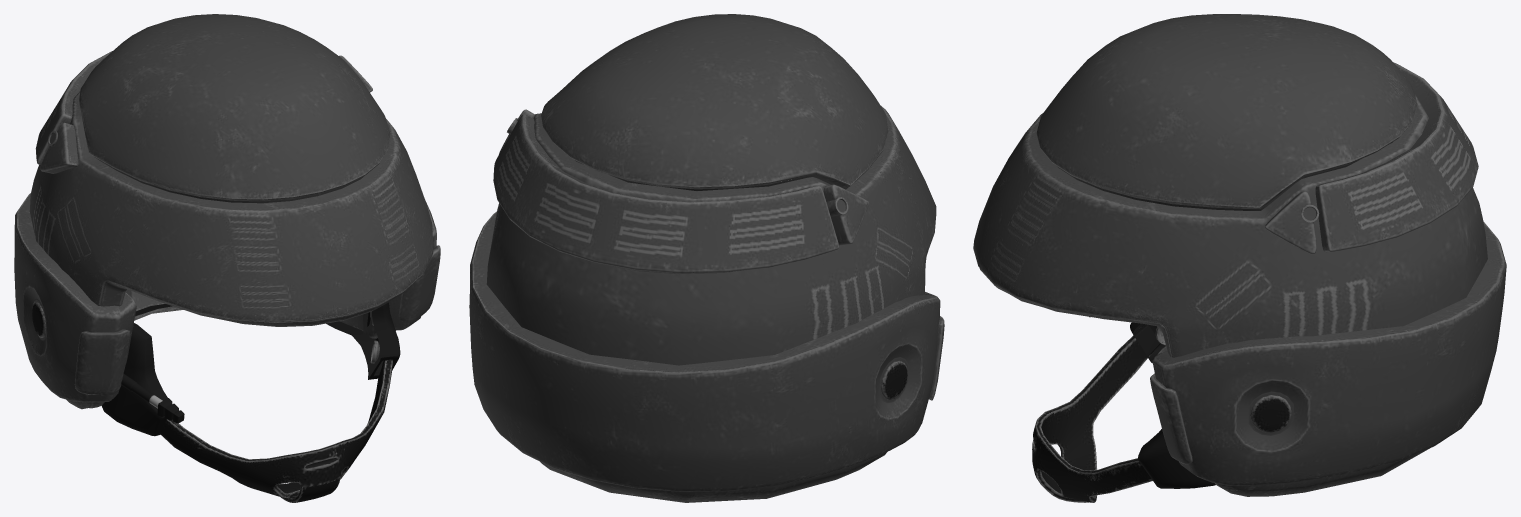
Rendered from Trooper.glb.
The picture shows the model from 3 angles, left to right: view 1: azimuth 30°, elevation 25°; view 2: azimuth 150°, elevation 25°; view 3: azimuth 270°, elevation 25°; orthographic projection. The views are drawn at different scales.
Parts seen in each view (by area): view 1: Trooper; view 2: Trooper; view 3: Trooper.
Part boxes in pixels (bbox=[...]): Trooper: bbox=[14, 14, 440, 502]; Trooper: bbox=[469, 14, 944, 502]; Trooper: bbox=[973, 14, 1506, 502].
Size of the model in its own units: 1.16 by 1.19 by 1.26.
Materials: 1 (1 with a texture image).
